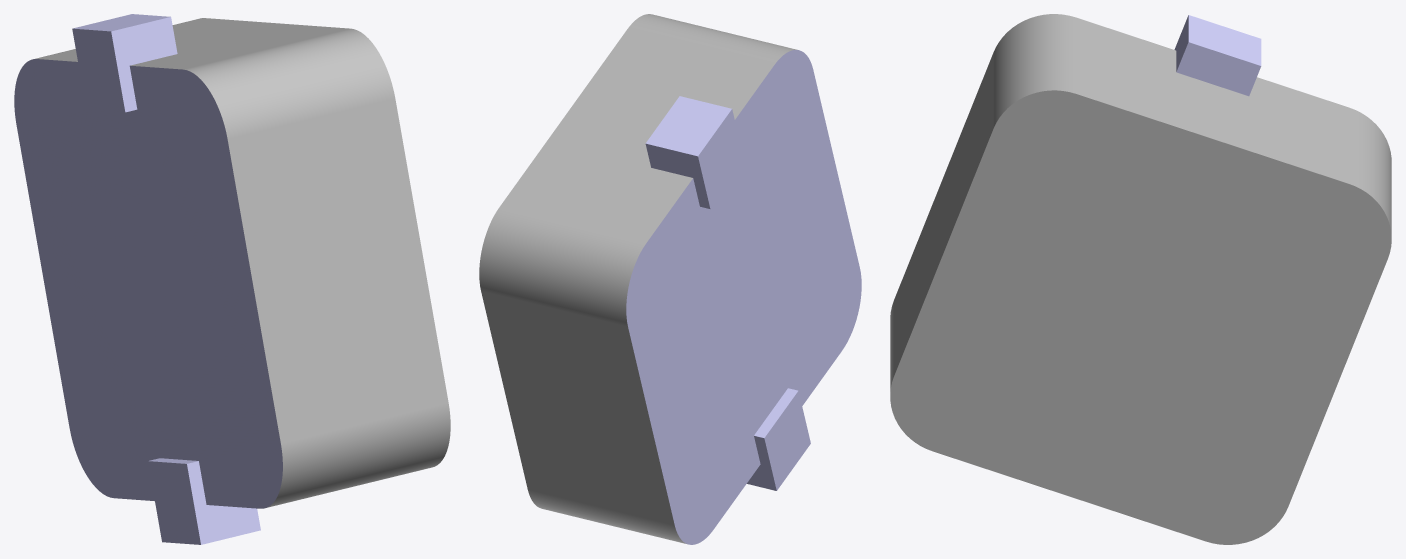
The model's file is EBoxNewAsm_stp_1_IMC413_stp_1_IMC413_13_stp_1_solid1.obj.
3 views of the same model, side by side, from view 1: azimuth 30°, elevation 25°; view 2: azimuth 150°, elevation 25°; view 3: azimuth 270°, elevation 25° (orthographic). The views are drawn at different scales.
Visible parts, largest first — view 1: mesh13423, mesh13422, mesh13421, mesh13419, mesh13424, mesh13428, mesh13409, mesh13427, mesh13412, mesh13429; view 2: mesh13423, mesh13417, mesh13424, mesh13418, mesh13421, mesh13429, mesh13428, mesh13409, mesh13416, mesh13426, mesh13413, mesh13414; view 3: mesh13420, mesh13424, mesh13422, mesh13421, mesh13418, mesh13425, mesh13429.
Part boxes in pixels (x1,y1,x2,y2): mesh13423: (14,59,282,508); mesh13422: (227,98,448,443); mesh13421: (184,28,395,139); mesh13419: (267,402,450,507); mesh13424: (38,18,349,69); mesh13428: (72,28,125,112); mesh13409: (148,461,200,544); mesh13427: (111,17,177,112); mesh13412: (187,461,260,544); mesh13429: (73,14,170,31); mesh13423: (626,50,861,544); mesh13417: (481,291,674,525); mesh13424: (499,29,773,243); mesh13418: (479,207,645,326); mesh13421: (627,14,797,64); mesh13429: (645,96,731,156); mesh13428: (698,109,744,208); mesh13409: (764,391,810,490); mesh13416: (528,489,687,544); mesh13426: (645,143,710,208); mesh13413: (747,436,776,490); mesh13414: (754,388,797,437); mesh13420: (890,90,1391,544); mesh13424: (1076,17,1349,183); mesh13422: (894,53,993,375); mesh13421: (993,14,1076,128); mesh13418: (1349,107,1391,233); mesh13425: (1176,42,1261,96); mesh13429: (1188,15,1261,65).
Bounding box in the file's own units: 0.003 × 0.00777 × 0.00777.
